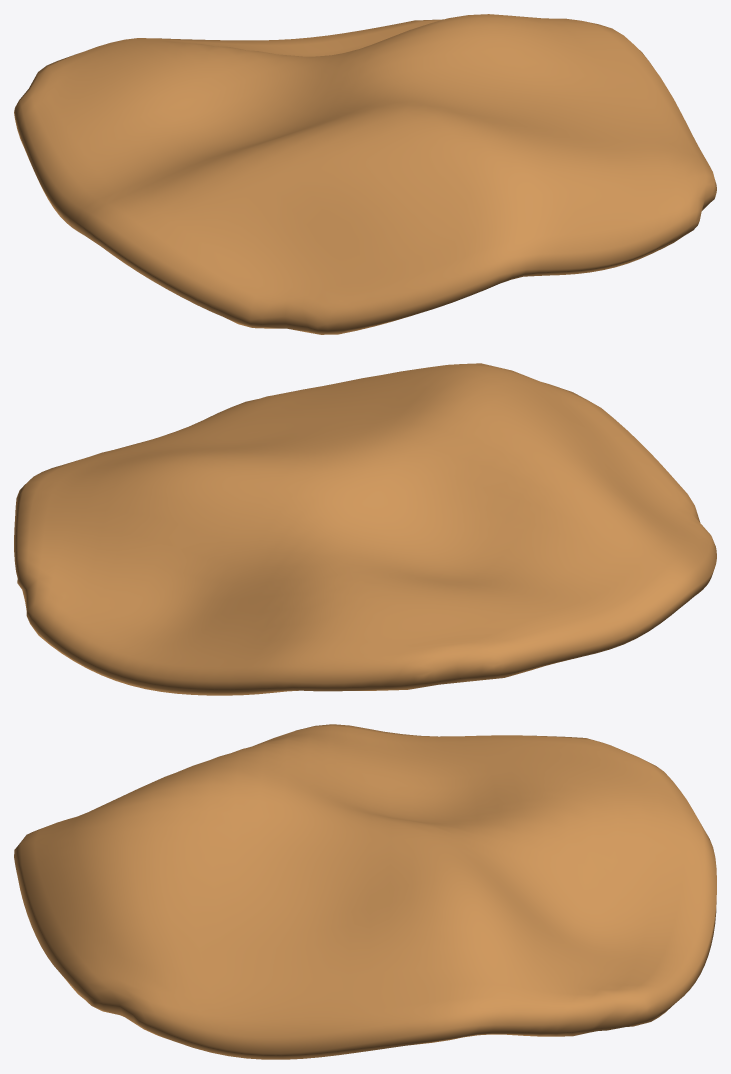
The model's file is SandPatch1.fbx.
The picture shows the model from 3 angles, top to bottom: view 1: azimuth 30°, elevation 25°; view 2: azimuth 150°, elevation 25°; view 3: azimuth 270°, elevation 25°; orthographic projection. The views are drawn at different scales.
Parts seen in each view (by area): view 1: SandPatch1; view 2: SandPatch1; view 3: SandPatch1.
Part boxes in pixels (left/top/right/bottom): SandPatch1: left=14, top=14, right=716, bottom=334; SandPatch1: left=14, top=363, right=716, bottom=695; SandPatch1: left=14, top=724, right=716, bottom=1059.
Bounding box in the file's own units: 18.4 × 18.25 × 4.31.
